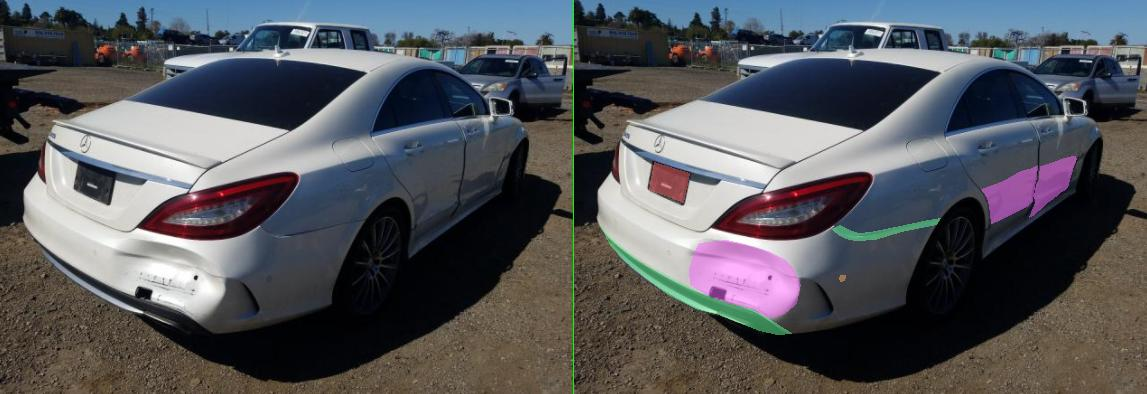Broken part: (52, 224, 434, 334), (516, 218, 733, 240)
Dent: (230, 240, 452, 317), (815, 165, 927, 223), (911, 156, 1005, 217)
Missing part: (150, 162, 230, 202), (270, 286, 306, 301), (386, 275, 396, 281)
Paint chip: (530, 275, 542, 281)
Scratch: (276, 272, 392, 295)
